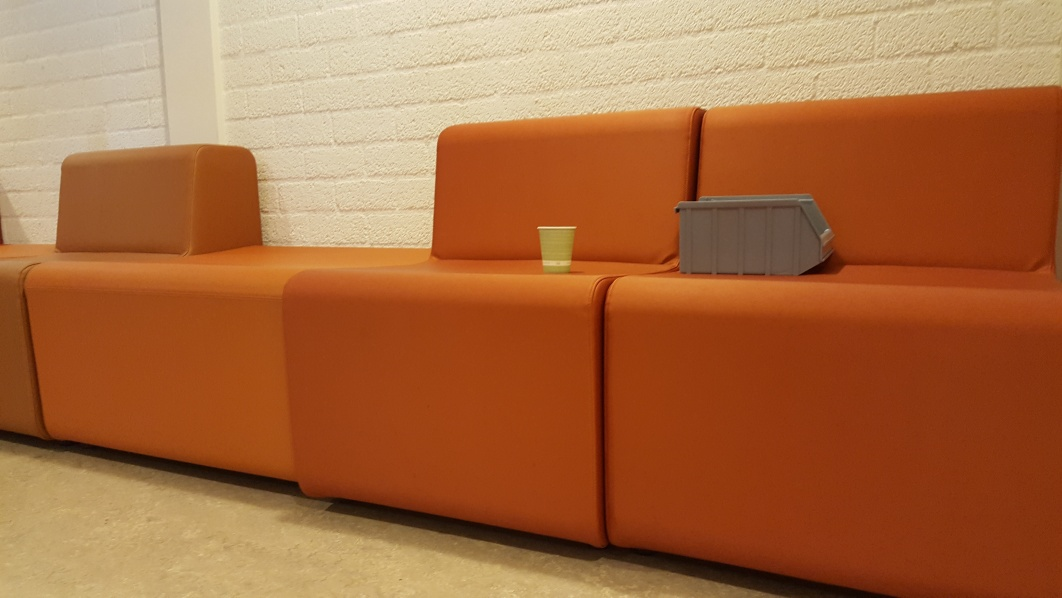cup: (535, 222, 578, 272)
tray: (675, 196, 834, 279)
